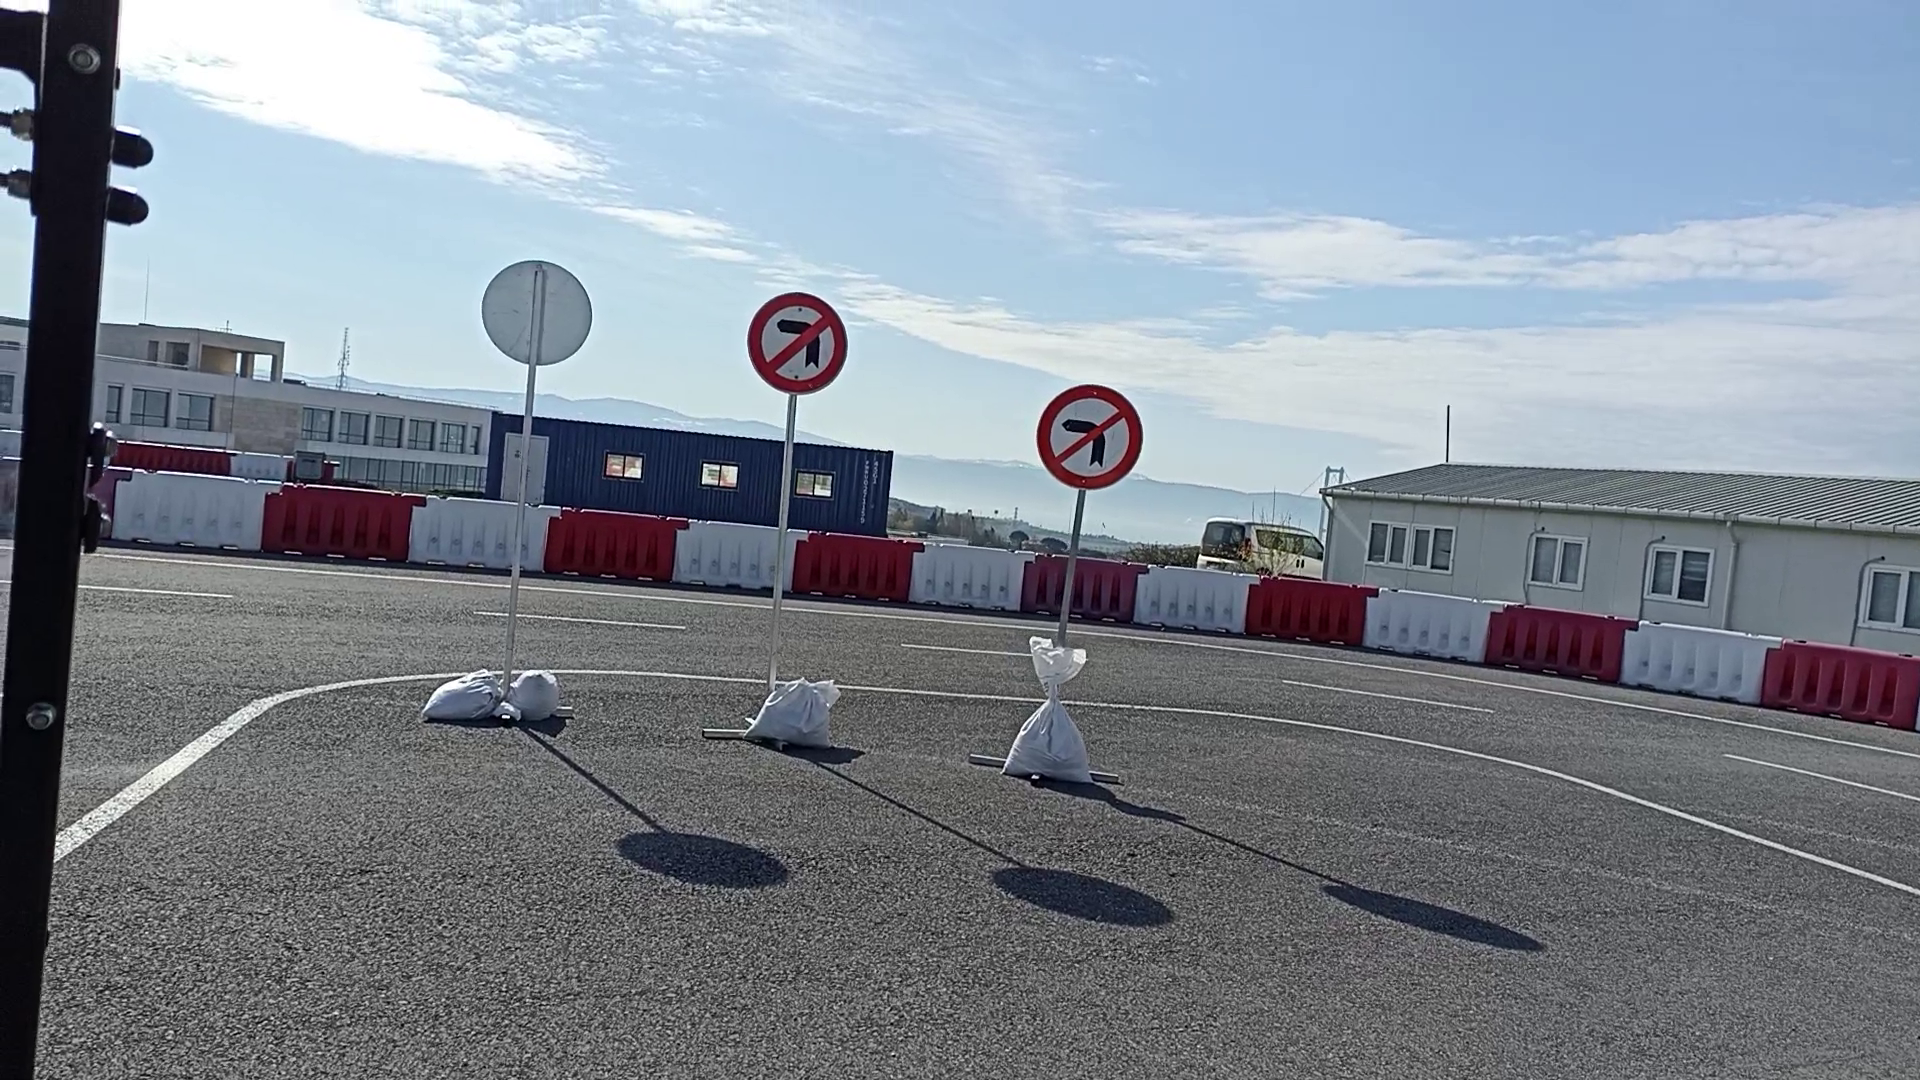noleft: (1034, 382, 1145, 495), (746, 290, 849, 396)
